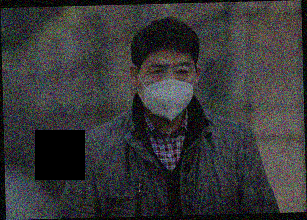with_mask: (136, 60, 197, 121)
